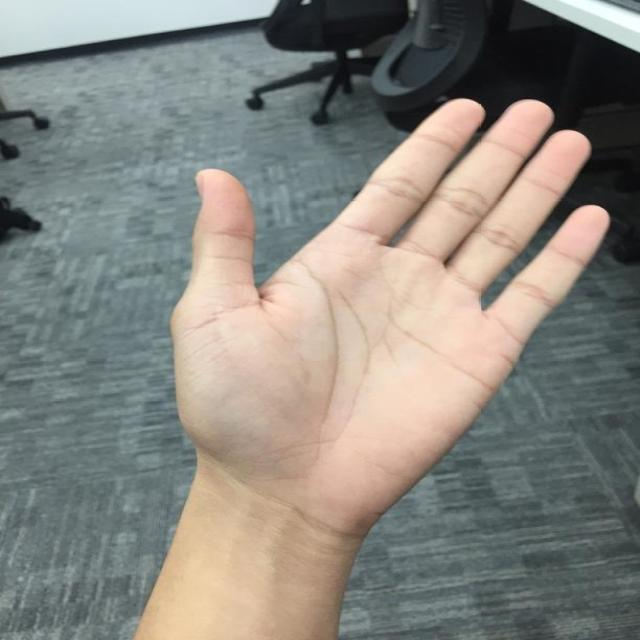hand: (169, 98, 612, 518)
